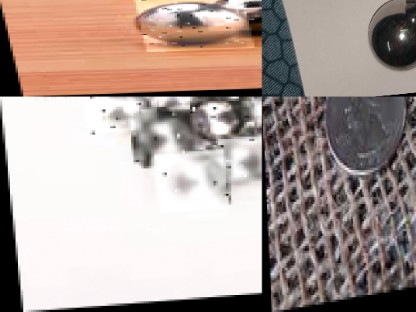ironball: (134, 0, 252, 52), (152, 152, 226, 216), (133, 111, 199, 168), (365, 0, 414, 73), (188, 100, 254, 152), (82, 96, 157, 135), (215, 139, 261, 186), (201, 2, 261, 33), (200, 96, 248, 113), (240, 103, 261, 132)
